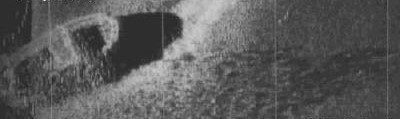ship: (1, 11, 121, 115)
